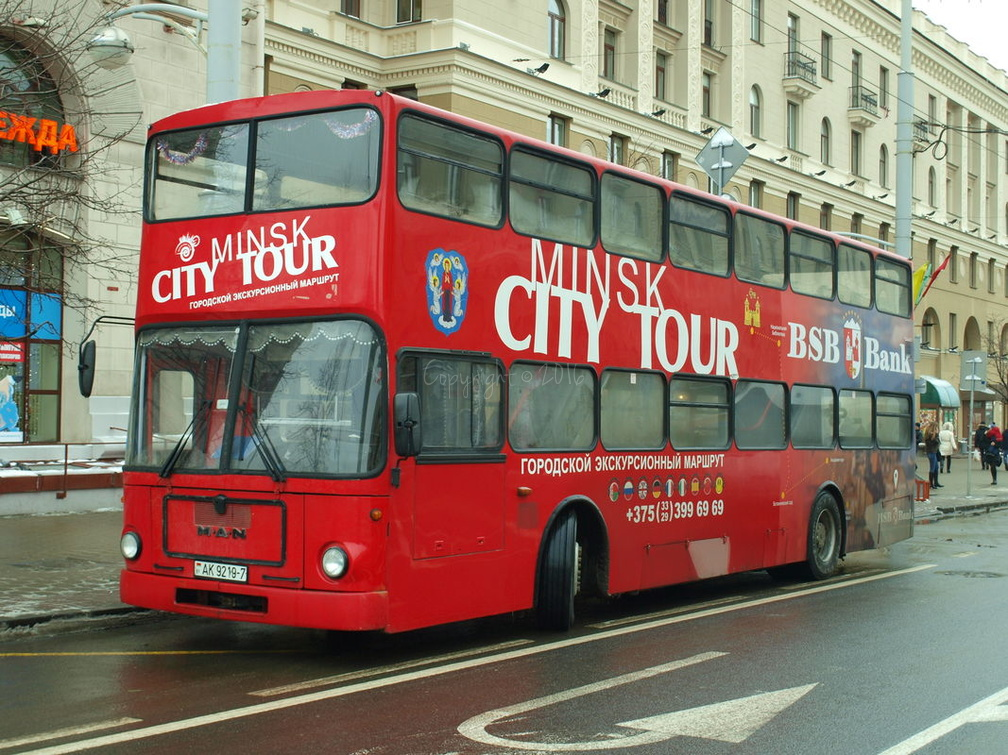bus: (117, 85, 919, 642)
